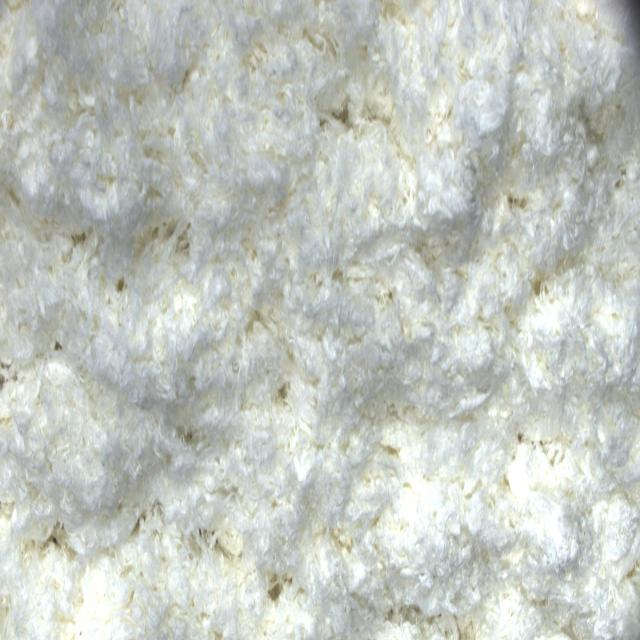dust: (268, 575, 286, 610)
